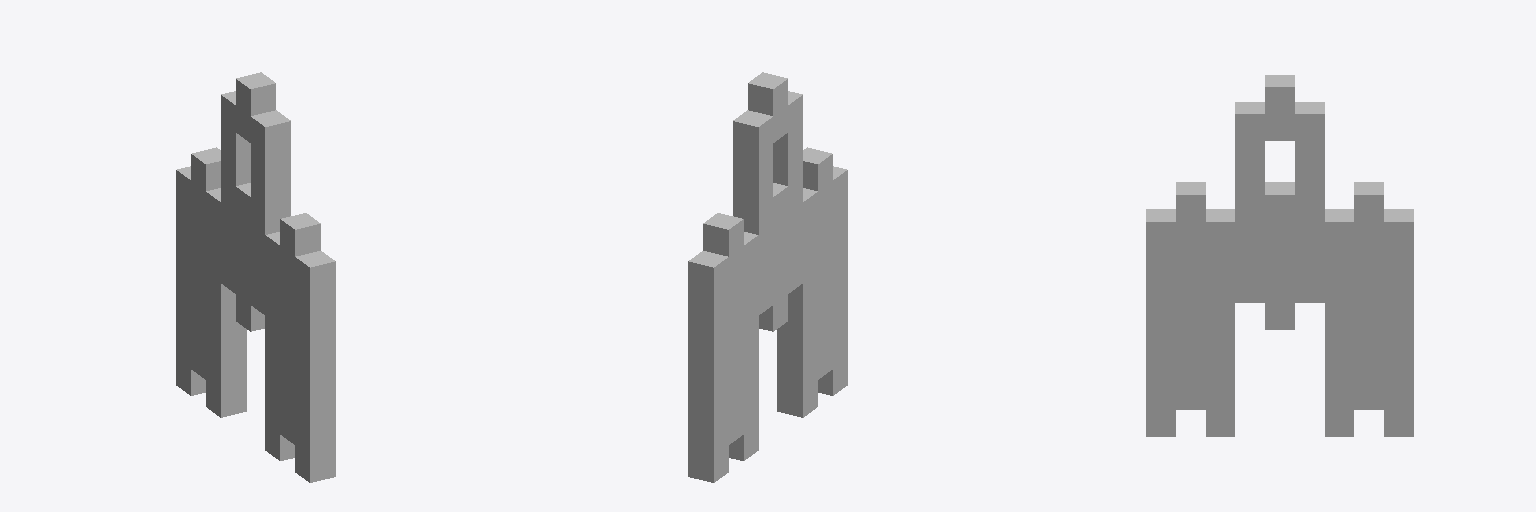
Rendered from vaisseau tijoe.obj.
3 views of the same model, side by side, from view 1: azimuth 30°, elevation 25°; view 2: azimuth 150°, elevation 25°; view 3: azimuth 270°, elevation 25° (orthographic).
Visible parts, largest first — view 1: vaisseau tijoe; view 2: vaisseau tijoe; view 3: vaisseau tijoe.
Part boxes in pixels (bbox=[...]): vaisseau tijoe: bbox=[176, 72, 335, 482]; vaisseau tijoe: bbox=[688, 72, 847, 482]; vaisseau tijoe: bbox=[1146, 75, 1413, 436].
Bounding box in the file's own units: 1 × 13 × 9.